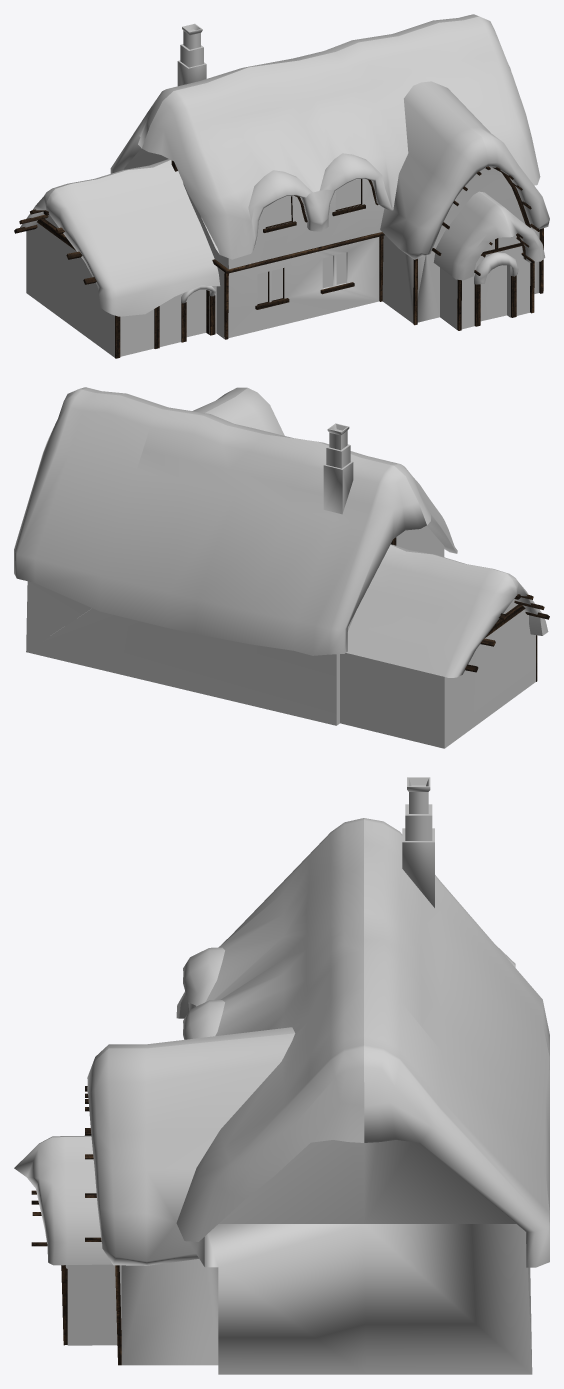
The model's file is VillageBuildingC.dae.
3 renders of one model, top to bottom at view 1: azimuth 30°, elevation 25°; view 2: azimuth 150°, elevation 25°; view 3: azimuth 270°, elevation 25°, orthographic. The views are drawn at different scales.
Parts seen in each view (by area): view 1: meshU3D; view 2: meshU3D; view 3: meshU3D.
Part boxes in pixels (<box>): meshU3D: <box>14,14,549,358</box>; meshU3D: <box>14,387,549,748</box>; meshU3D: <box>14,777,549,1374</box>.
Size of the model in its own units: 647 by 347 by 428.
